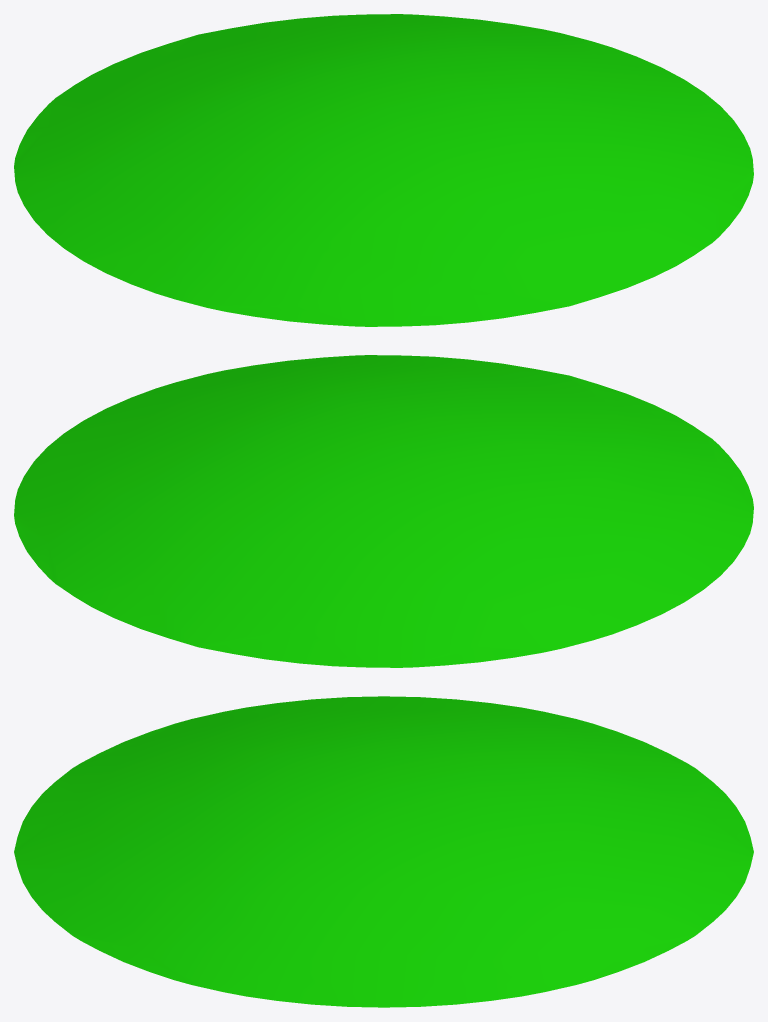
Rendered from 01-Gauge-Glass-Rounded-HP.fbx.
The picture shows the model from 3 angles, top to bottom: view 1: azimuth 30°, elevation 25°; view 2: azimuth 150°, elevation 25°; view 3: azimuth 270°, elevation 25°; orthographic projection.
Parts seen in each view (by area): view 1: 01-Gauge-Glass-Rounded-HP; view 2: 01-Gauge-Glass-Rounded-HP; view 3: 01-Gauge-Glass-Rounded-HP.
Part boxes in pixels (left/top/right/bottom): 01-Gauge-Glass-Rounded-HP: left=14, top=14, right=753, bottom=326; 01-Gauge-Glass-Rounded-HP: left=14, top=355, right=753, bottom=667; 01-Gauge-Glass-Rounded-HP: left=14, top=696, right=753, bottom=1007.
Size of the model in its own units: 199 by 18.54 by 200.
